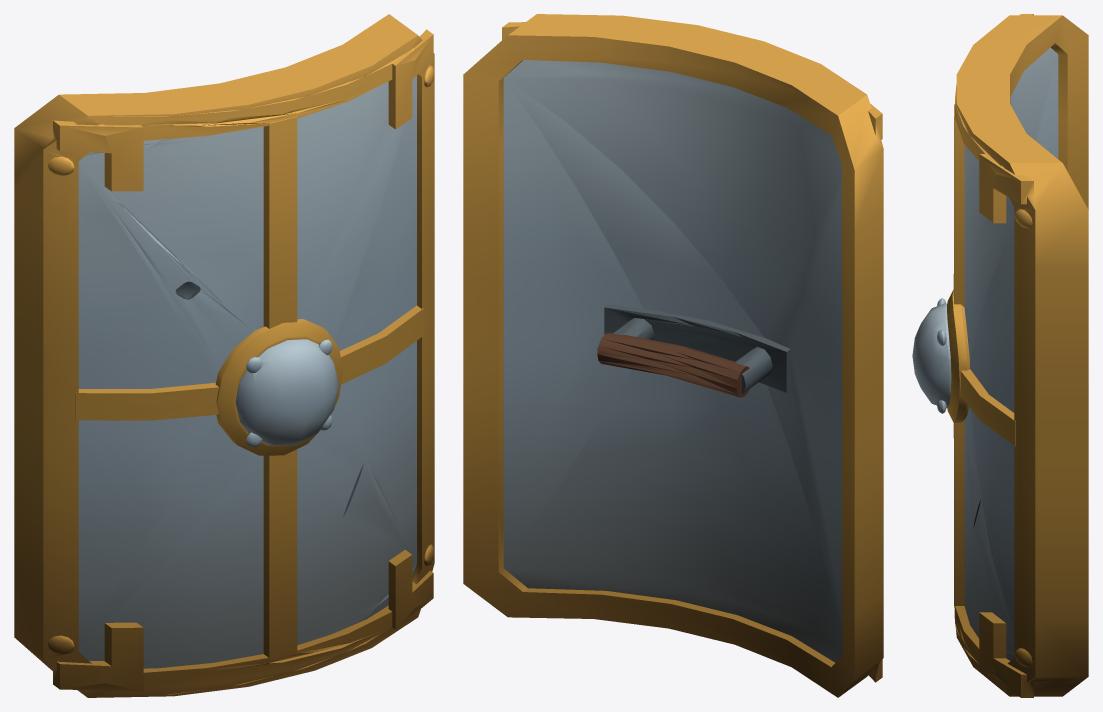
The model's file is shield_aegis_gold.glb.
The picture shows the model from 3 angles, left to right: view 1: azimuth 30°, elevation 25°; view 2: azimuth 150°, elevation 25°; view 3: azimuth 270°, elevation 25°; orthographic projection. The views are drawn at different scales.
Parts seen in each view (by area): view 1: Item; view 2: Item; view 3: Item.
Boxes of the visible parts, bbox=[...] form: Item: bbox=[14, 14, 434, 697]; Item: bbox=[463, 14, 883, 697]; Item: bbox=[912, 14, 1088, 697].
Bounding box in the file's own units: 0.9 × 1.28 × 0.383.
Materials: 2 (2 with a texture image).
